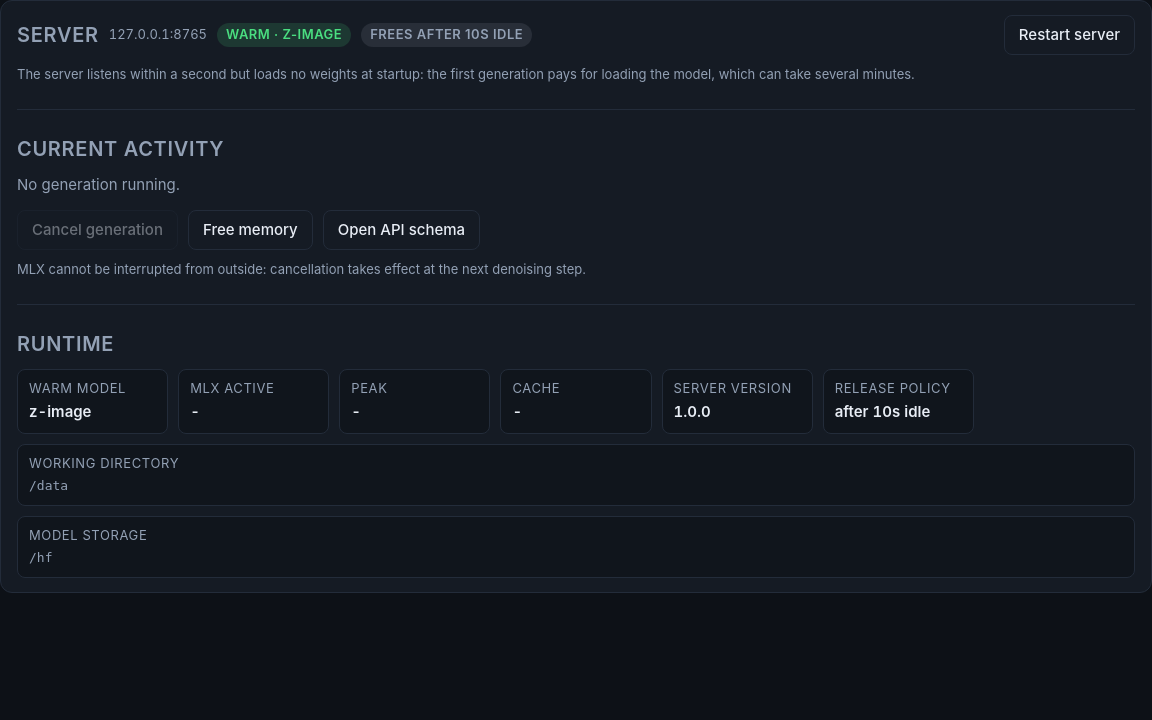
Test: keeps a failed action on screen while a different one succeeds
Expected: the text "Release policy" is shown, top-left (835, 378), bottom-right (962, 398)
Click the button "Restart server" at x=1069, y=35, box top-left (1004, 15), bottom-right (1135, 55)
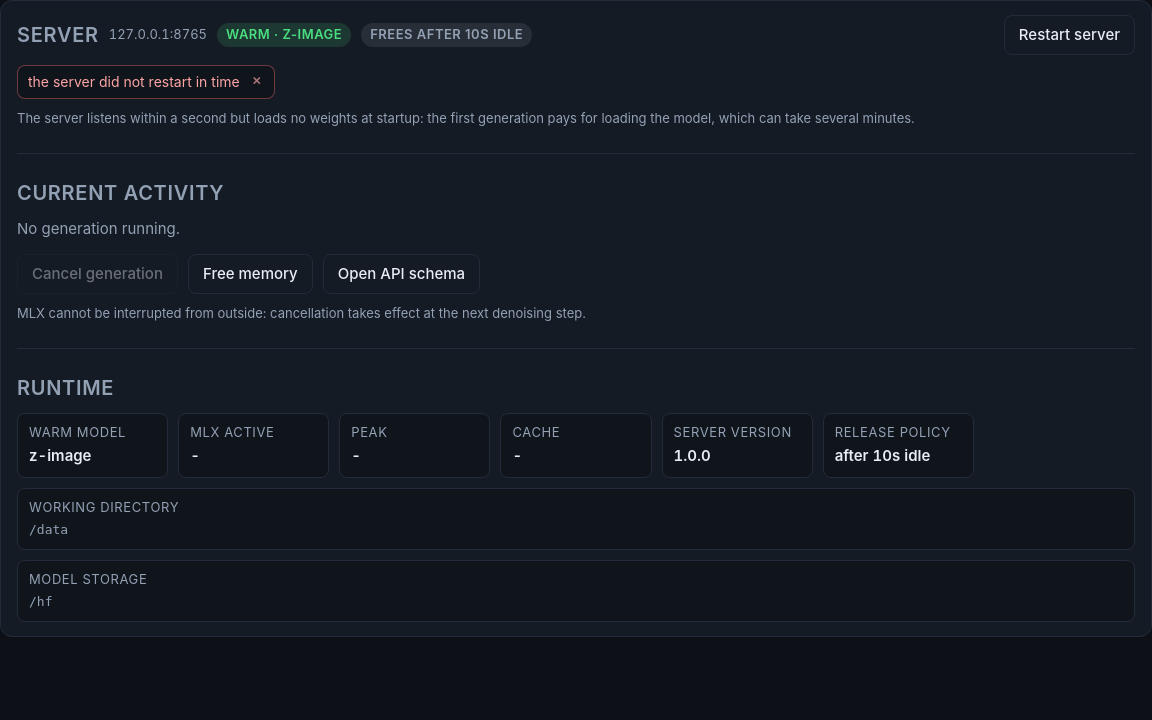
Expected: the text "the server did not restart in time" is shown, top-left (28, 72), bottom-right (240, 92)
Click the button "Free memory" at x=250, y=274, box top-left (188, 254), bottom-right (313, 294)
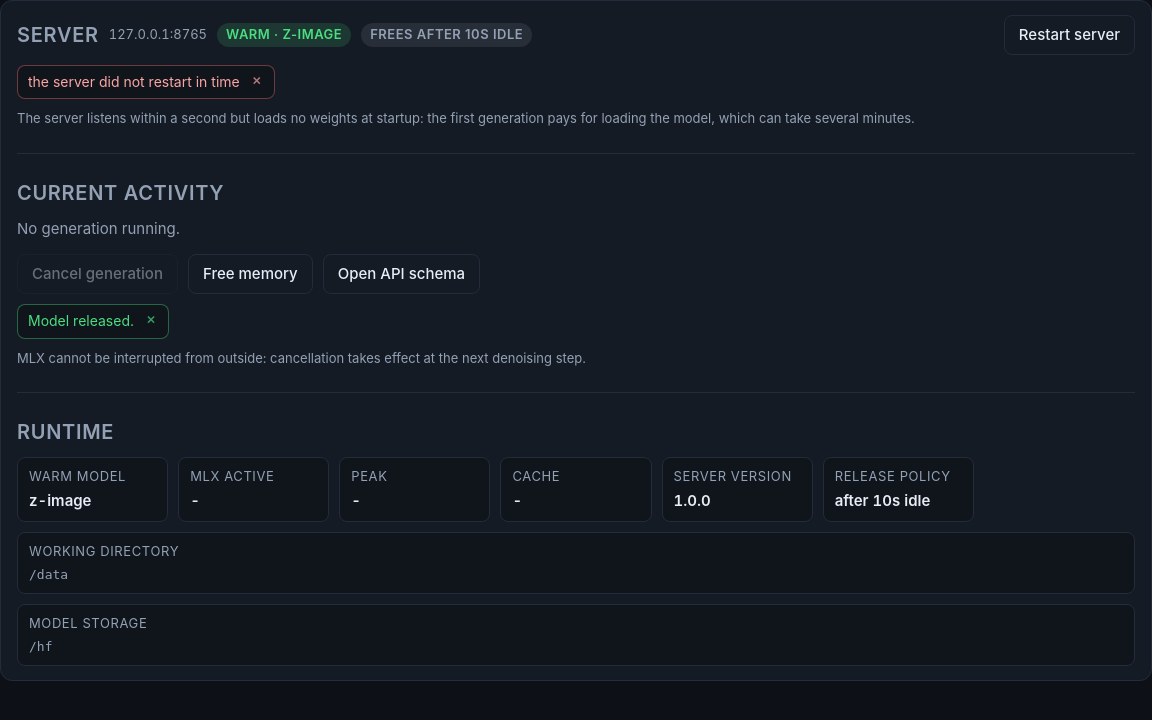
Expected: the text "the server did not restart in time" is shown, top-left (28, 72), bottom-right (240, 92)
Expected: the text "Model released." is shown, top-left (28, 311), bottom-right (134, 332)
Note: Dismissing is the user's, and it is the only thing that clears it.
Click the button named "Dismiss" at x=257, y=80, box top-left (250, 72), bottom-right (264, 87)
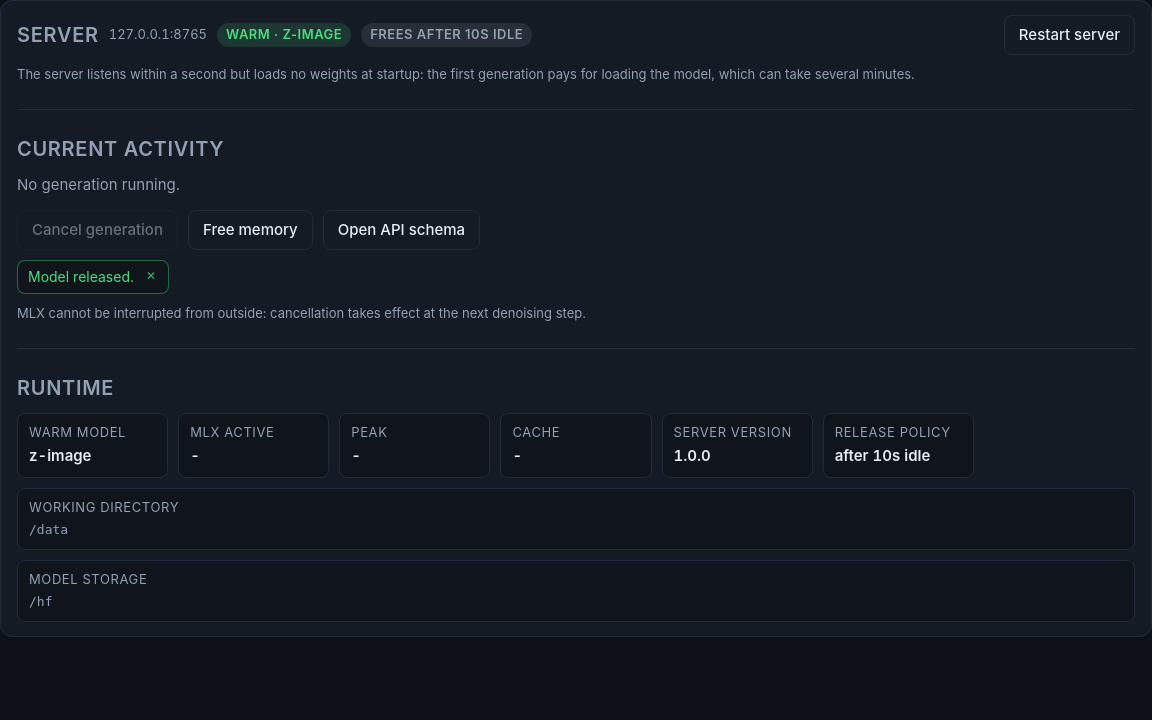
Expected: the text "the server did not restart in time" is gone
